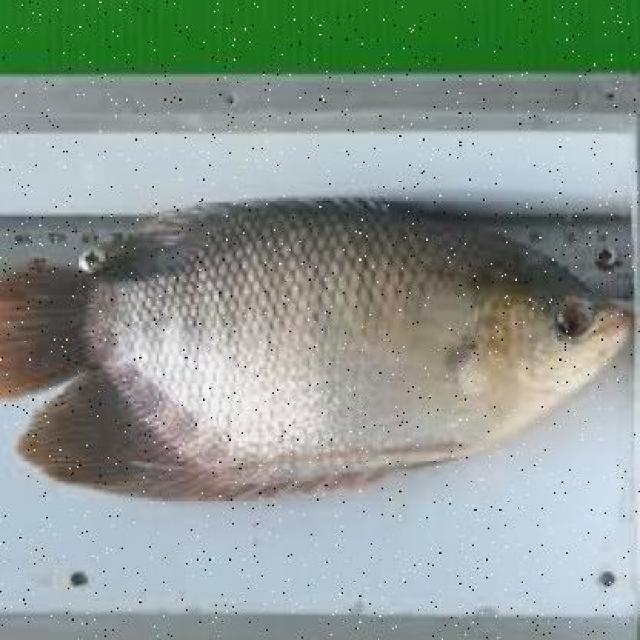gurame: (4, 202, 624, 504)
